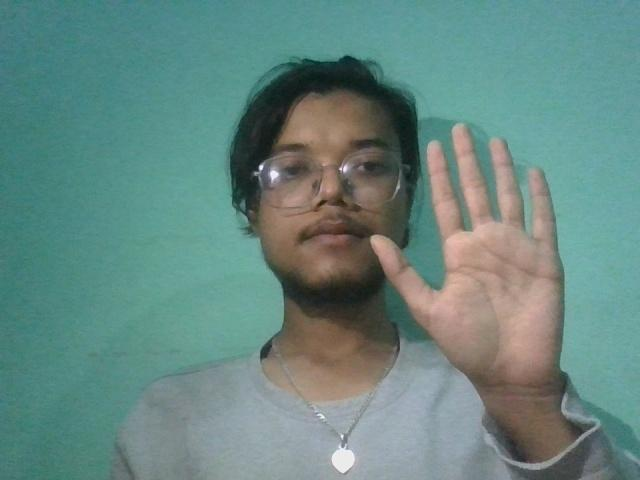hello: (363, 120, 588, 426)
